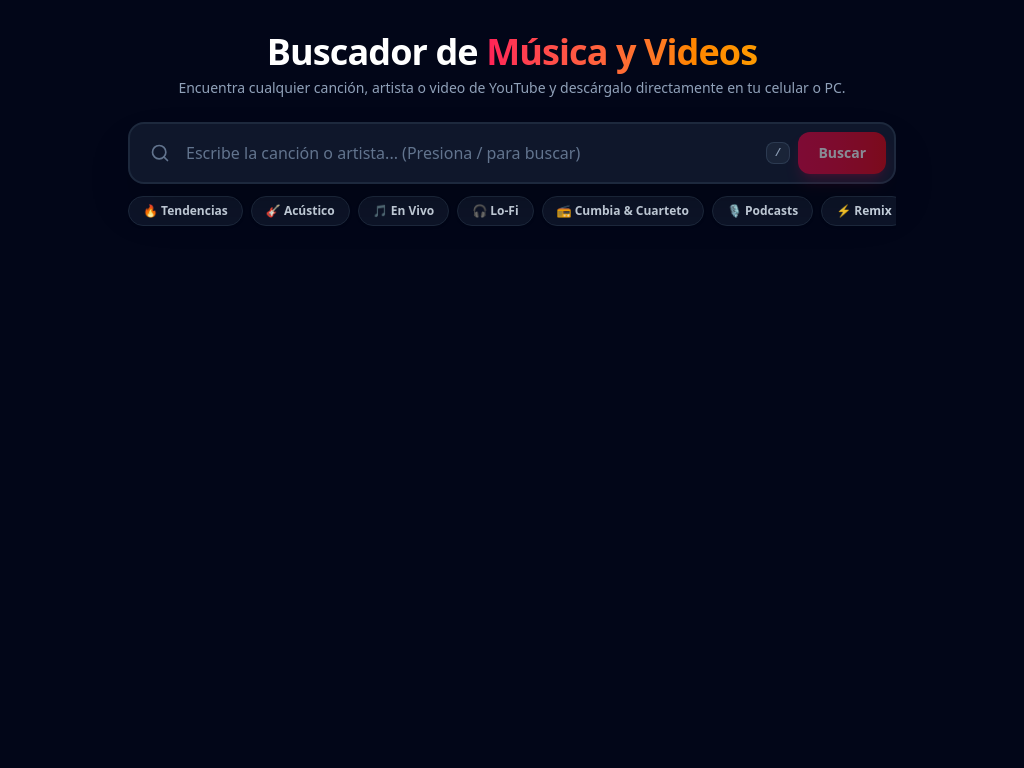
Scenario: SearchDownloader Component Tests › debe realizar la búsqueda y mostrar los resultados con 480p por defecto
The image size is (1024, 768).
Type "Cancion" into the field with placeholder "Escribe la canción o artista... (Presiona / para buscar)" at (472, 153), box [178,133,766,173]
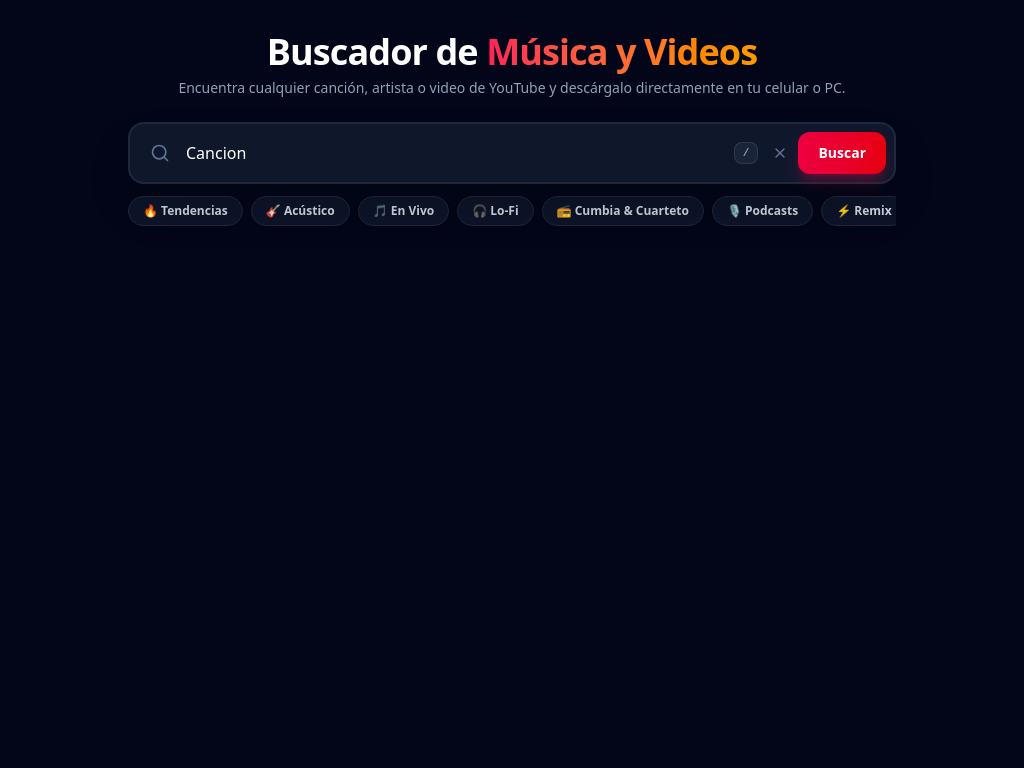
Click the button "Buscar" at (842, 153), box [798,132,886,174]
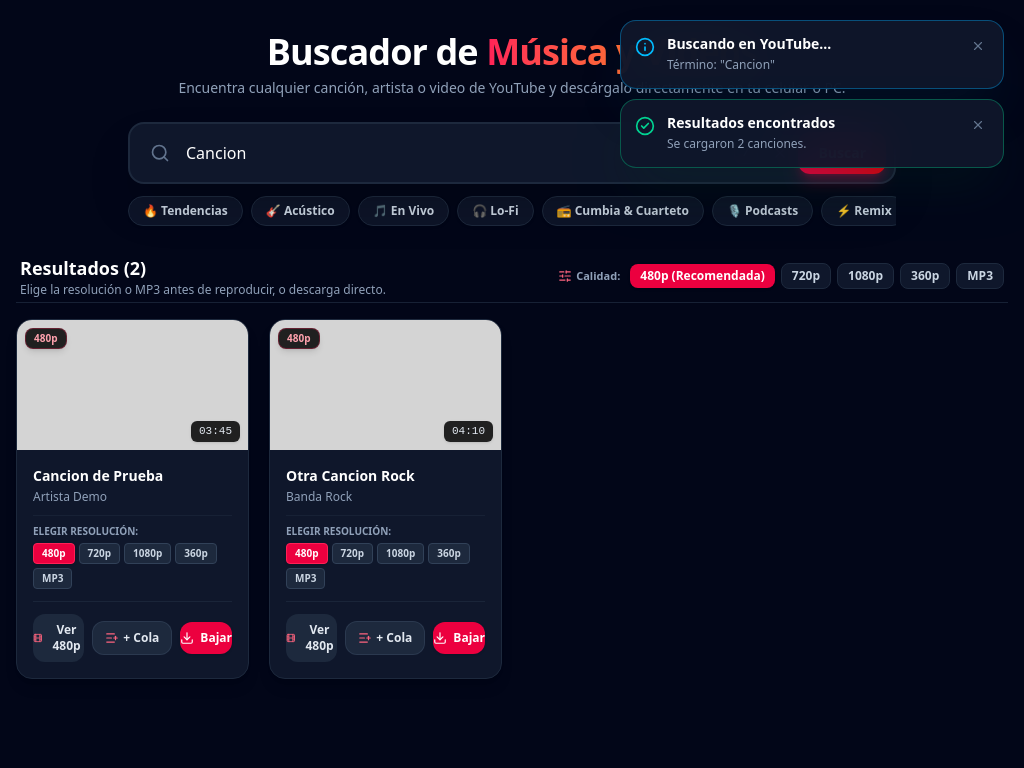
expect the heading "Resultados (2)" is shown: met, box [20,256,146,280]
